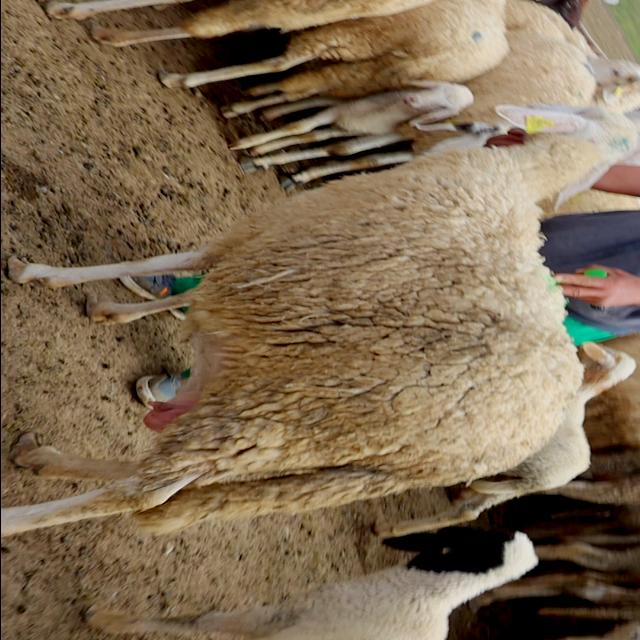Score_2: (1, 105, 637, 535)
